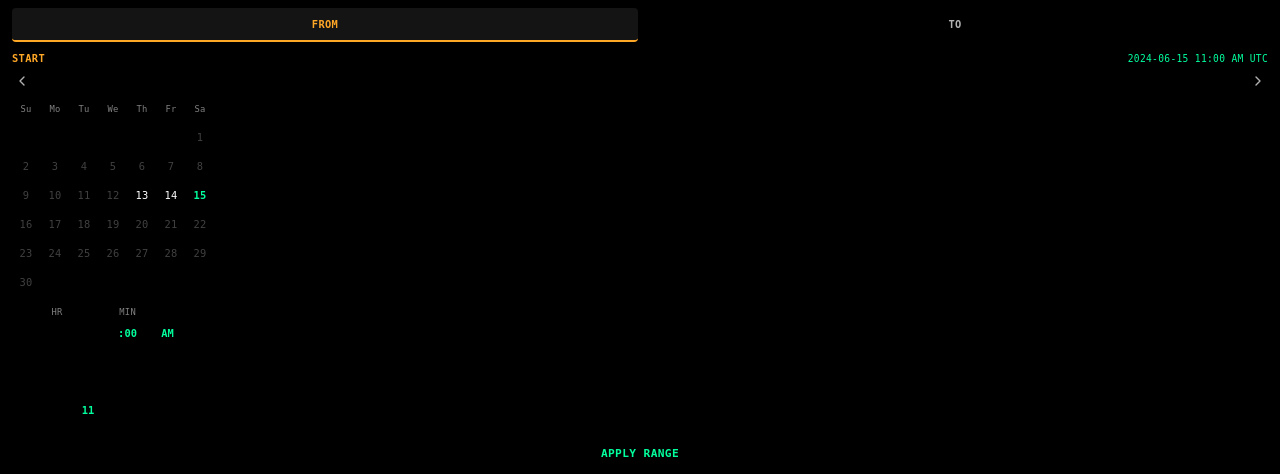
CustomRangePicker — rendering › clicking the TO tab switches to the END picker
Click the text "TO": (955, 24) [948,18,962,30]
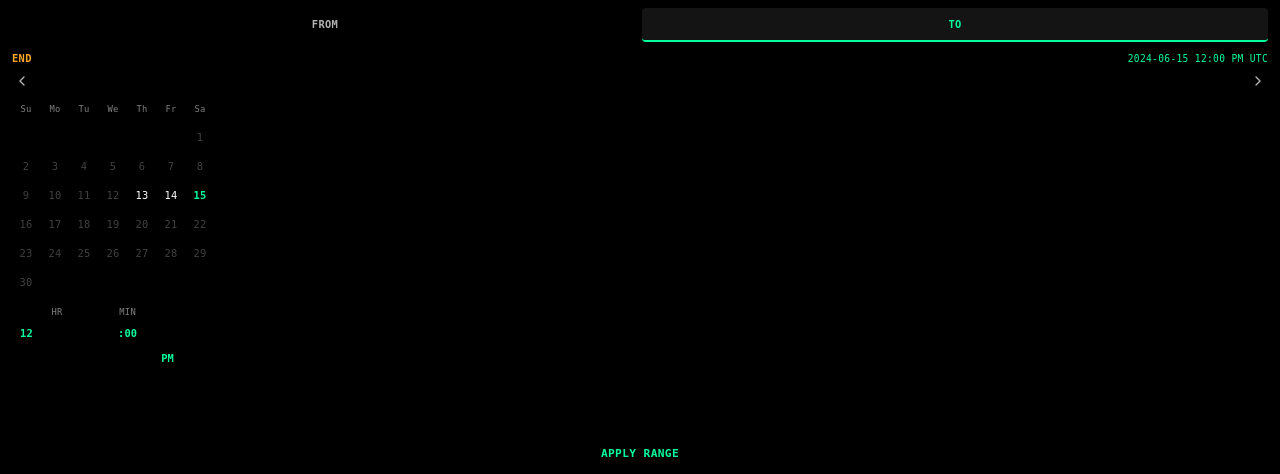
expect the text "END" is shown: met, box [12,50,32,67]
